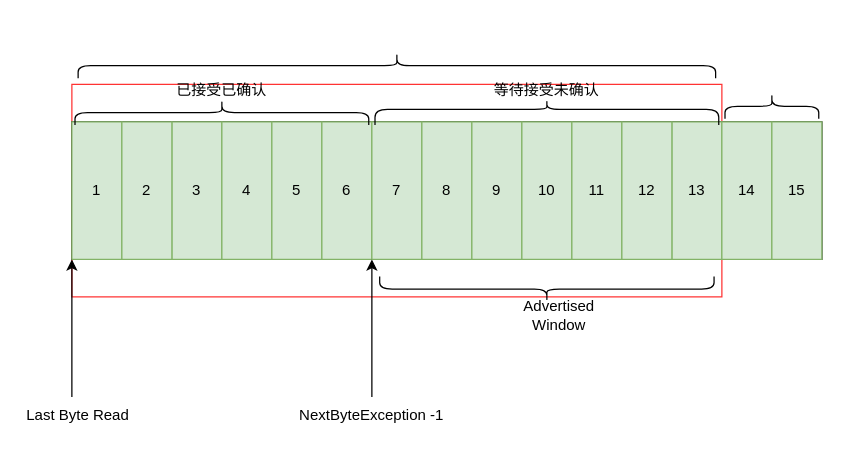
Image size: 844x455. Some labels were removed from this diagram. The shapes that lost their labels are listed below. From the top down, each one's centre as x and y in pixels, then its label:
At pixel 396 65: "MaxRcvBuffer".
At pixel 771 105: "不可接受".
